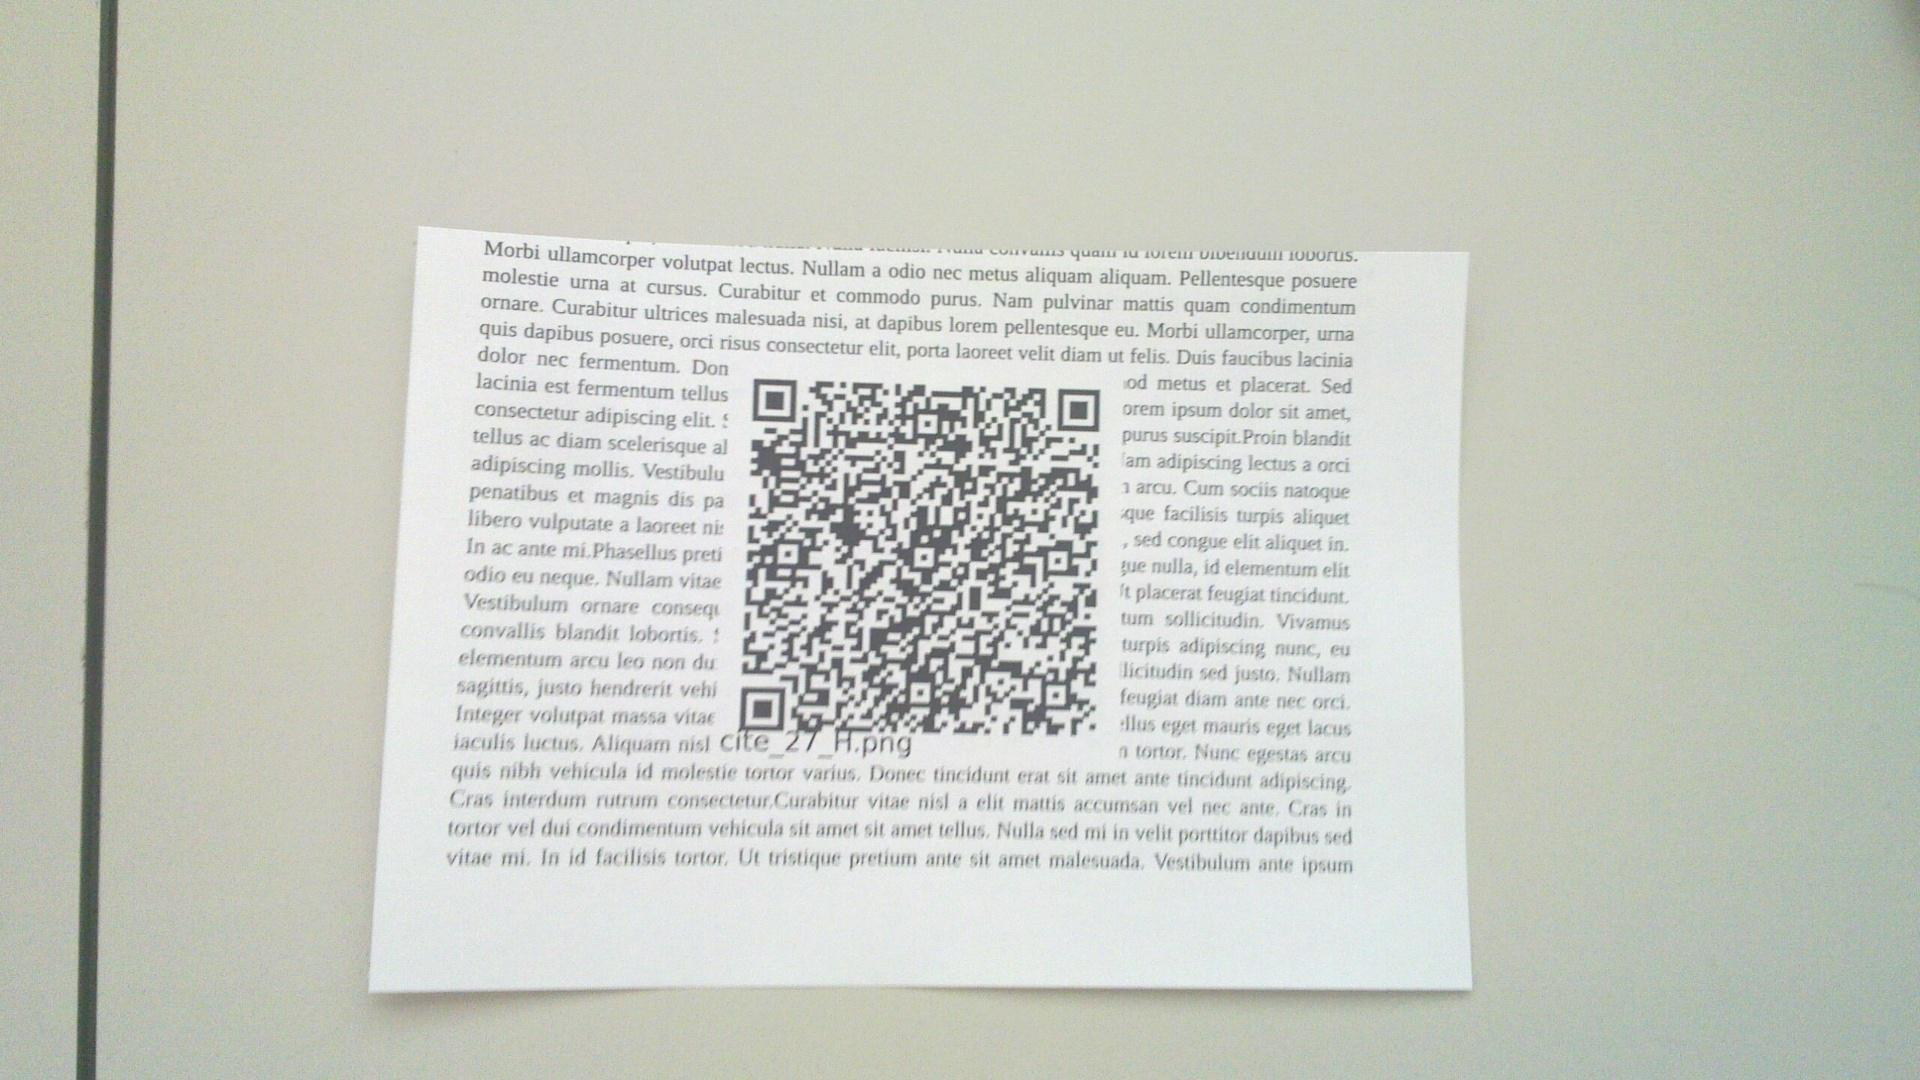Finder pattern: (746, 371, 800, 427), (735, 680, 789, 737), (1052, 381, 1104, 436)
